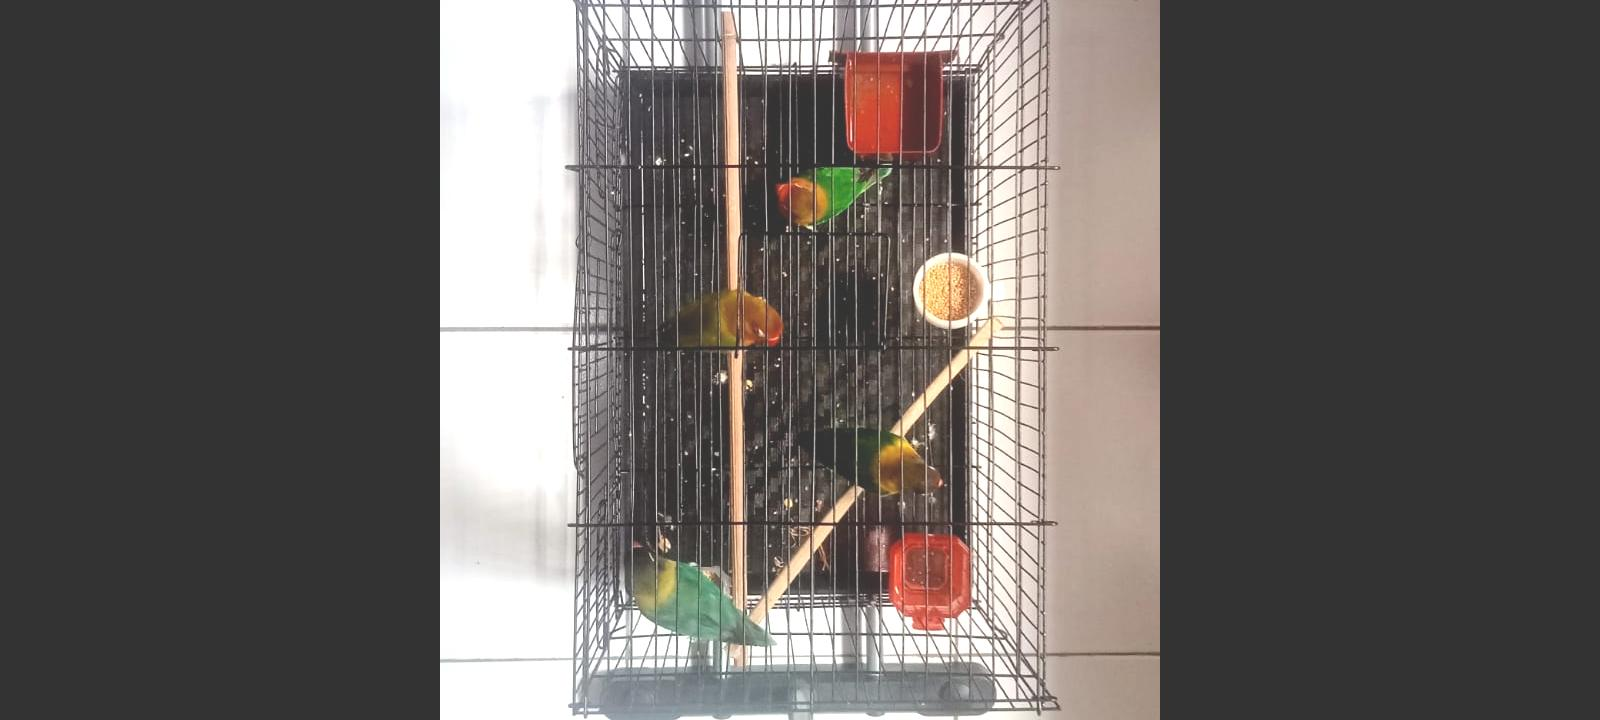LoveBird: (624, 537, 778, 646), (797, 427, 947, 495), (651, 288, 785, 351), (776, 163, 893, 225)
